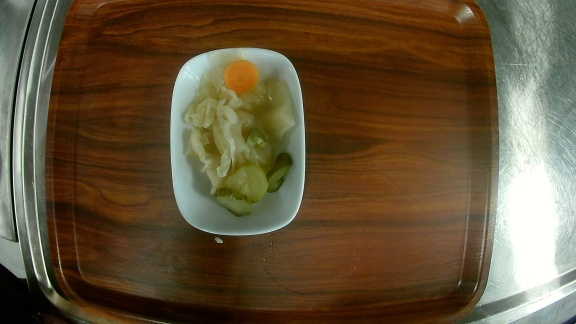tursu: (169, 47, 306, 235)
